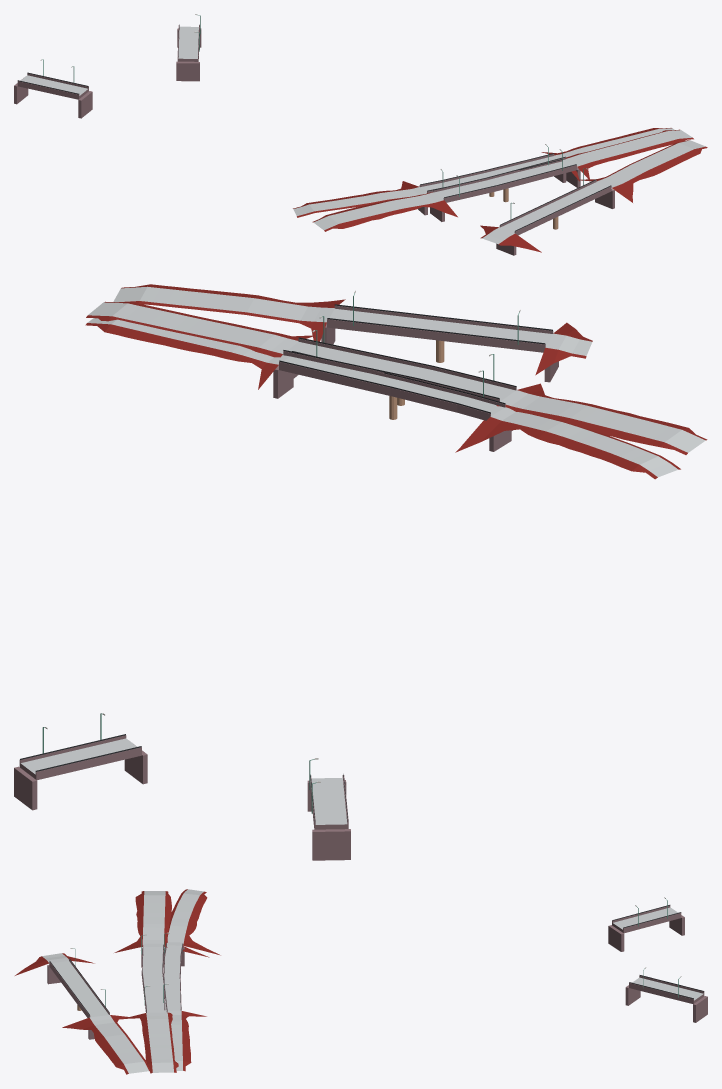
The model's file is br_n260_scona_connors.gltf.
The picture shows the model from 3 angles, top to bottom: view 1: azimuth 30°, elevation 25°; view 2: azimuth 150°, elevation 25°; view 3: azimuth 270°, elevation 25°; orthographic projection. The views are drawn at different scales.
Parts seen in each view (by area): view 1: br_n260_scona_connors; view 2: br_n260_scona_connors; view 3: br_n260_scona_connors.
Part boxes in pixels (x1,y1,x2,y2): br_n260_scona_connors: (14, 14, 707, 255); br_n260_scona_connors: (14, 284, 707, 860); br_n260_scona_connors: (15, 889, 707, 1074).
Bounding box in the file's own units: 224 × 40.49 × 325.
